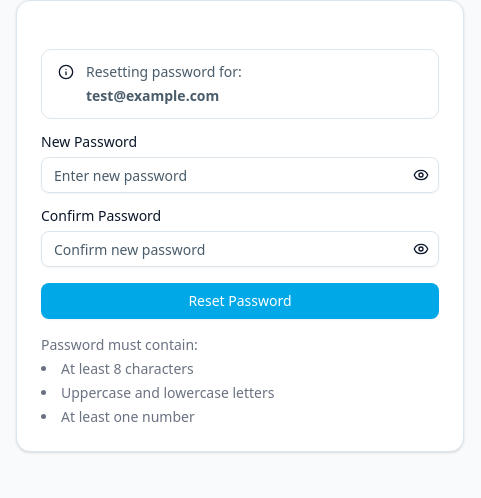
Test: ResetPasswordForm › should validate password complexity
Type "weakpassword" into the password field labelled "New Password" at (240, 175), box [41, 157, 439, 193]
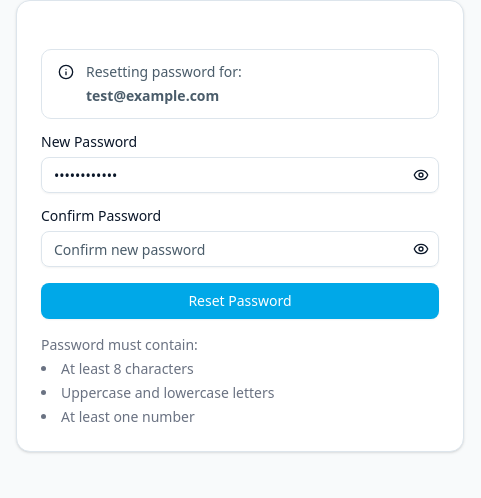
Type "weakpassword" into the password field labelled "Confirm Password" at (240, 249), box [41, 231, 439, 267]
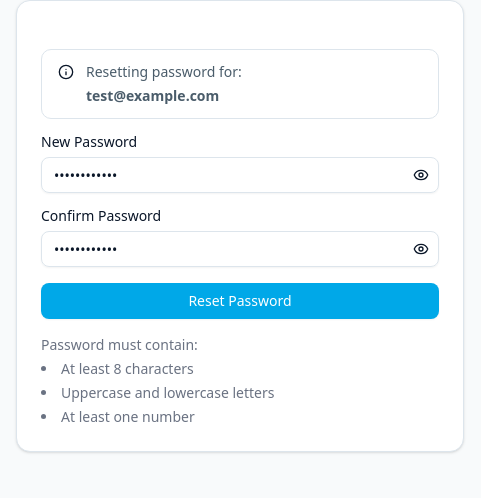
Click the button "Reset Password" at (240, 301), box [41, 283, 439, 319]
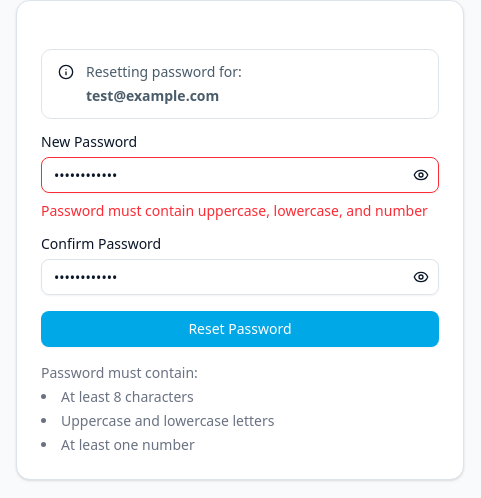
Now the text "Password must contain uppercase, lowercase, and number" is shown, box [41, 201, 439, 221]
